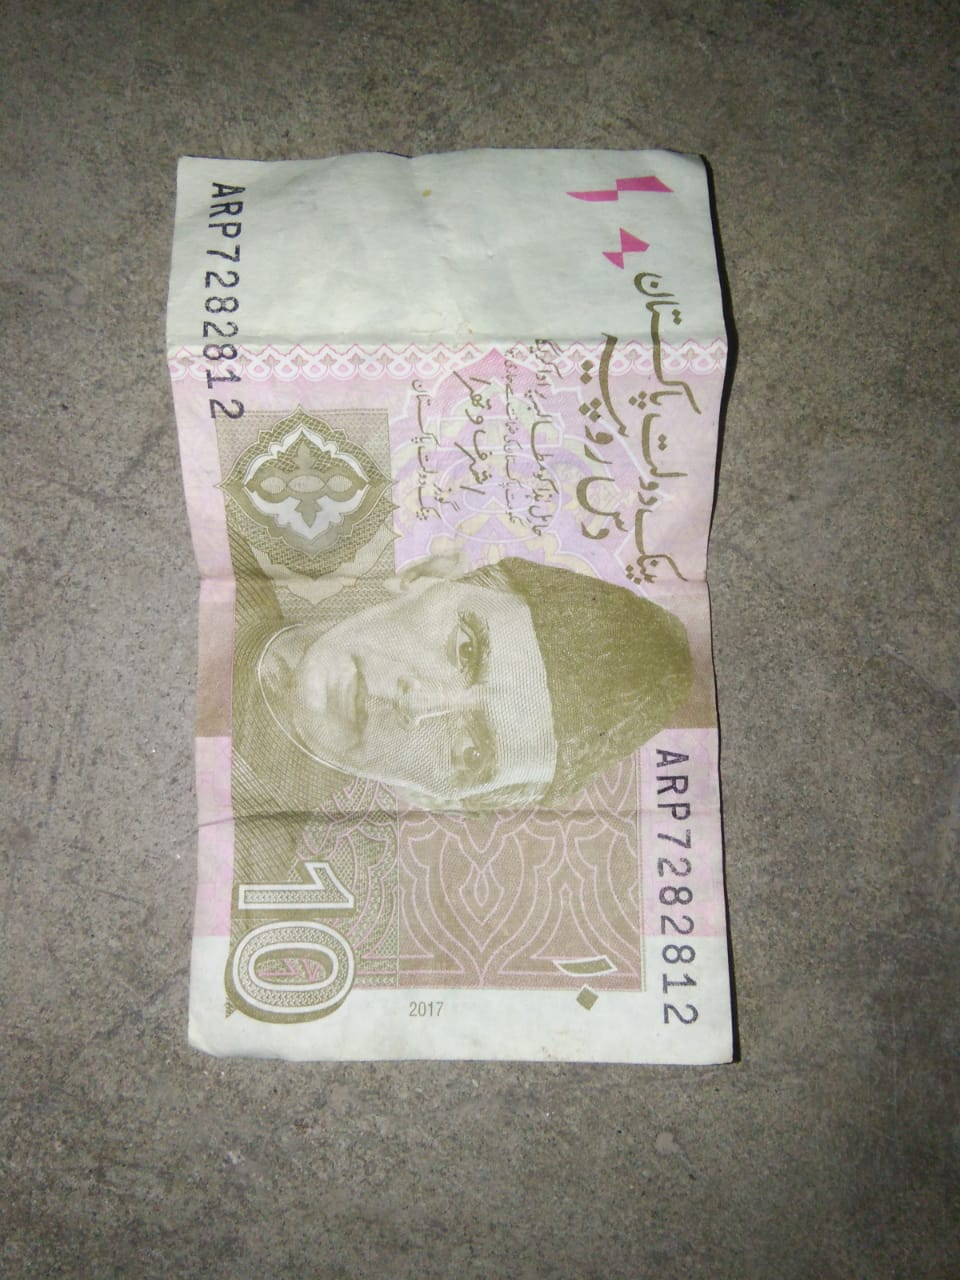10 rupee: (161, 158, 739, 1062)
